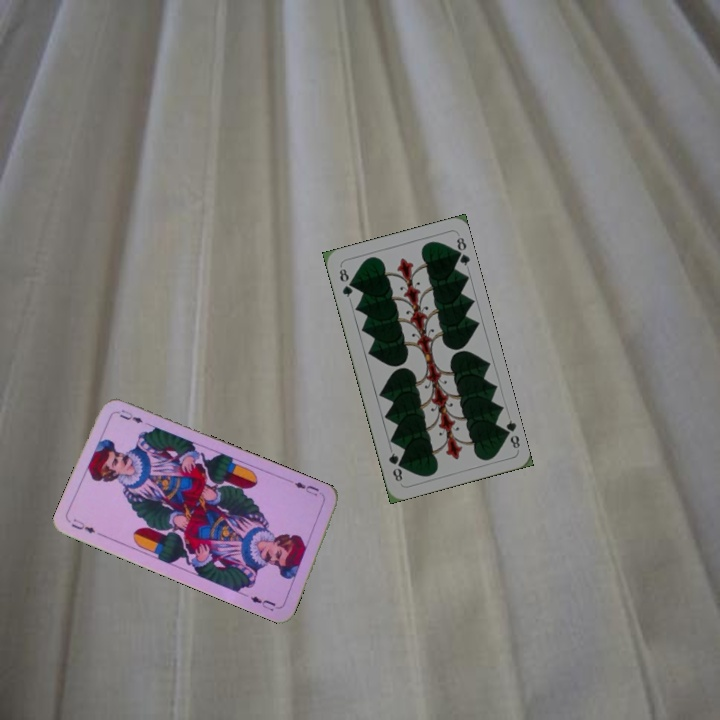EU: (287, 478, 326, 500), (67, 515, 98, 536)
G8: (498, 416, 523, 451), (335, 264, 355, 300)
